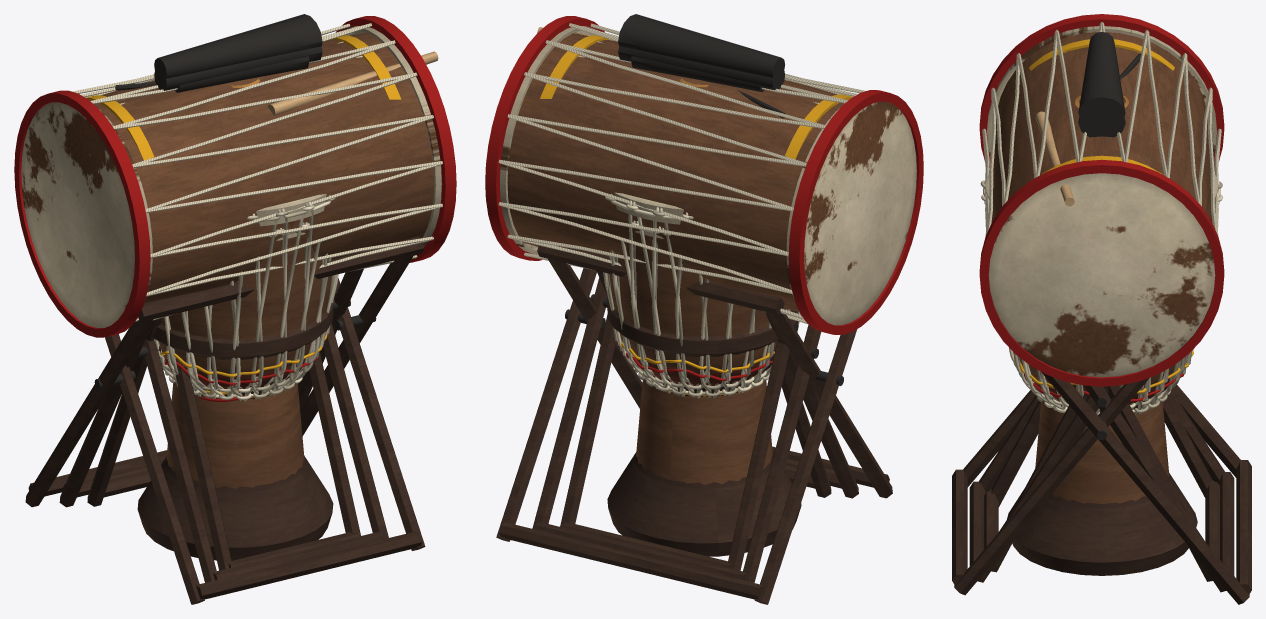
The model's file is EnsembleKit.glb.
3 views of the same model, side by side, from view 1: azimuth 30°, elevation 25°; view 2: azimuth 150°, elevation 25°; view 3: azimuth 270°, elevation 25° (orthographic). The views are drawn at different scales.
Parts seen in each view (by area): view 1: Doundoun_Body, DjembeLead_Body, Doundoun_Head_B, Sangban_Body, Stool, Kenkeni_Body, Doundoun_Bell, Djembe_Body, Doundoun_Head_A, Sangban_Bell, Kenkeni_Bell, Doundoun_Stick (+2 smaller); view 2: Doundoun_Body, DjembeLead_Body, Doundoun_Head_B, Sangban_Body, Stool, Kenkeni_Body, Doundoun_Bell, Djembe_Body, Doundoun_Head_A, Sangban_Bell, Kenkeni_Bell, DjembeLead_Head (+1 smaller); view 3: Doundoun_Body, Doundoun_Head_A, Stool, Sangban_Body, DjembeLead_Body, Kenkeni_Body, Doundoun_Bell, Doundoun_Head_B, Djembe_Body, Sangban_Bell, Doundoun_Stick, Shekere_Stand.
Part boxes in pixels (x1,y1,x2,y2): Doundoun_Body: [14, 16, 456, 604]; DjembeLead_Body: [154, 195, 338, 488]; Doundoun_Head_B: [21, 102, 152, 327]; Sangban_Body: [59, 35, 401, 582]; Stool: [137, 303, 333, 560]; Kenkeni_Body: [87, 318, 360, 570]; Doundoun_Bell: [154, 14, 322, 80]; Djembe_Body: [158, 222, 324, 401]; Doundoun_Head_A: [342, 26, 441, 246]; Sangban_Bell: [154, 46, 322, 90]; Kenkeni_Bell: [174, 56, 309, 92]; Doundoun_Stick: [268, 51, 438, 115]; Doundoun_Body: [485, 16, 923, 604]; DjembeLead_Body: [603, 193, 800, 484]; Doundoun_Head_B: [786, 101, 916, 325]; Sangban_Body: [532, 35, 858, 582]; Stool: [607, 296, 801, 556]; Kenkeni_Body: [560, 310, 831, 570]; Doundoun_Bell: [618, 14, 784, 79]; Djembe_Body: [607, 220, 786, 398]; Doundoun_Head_A: [499, 26, 598, 254]; Sangban_Bell: [618, 46, 784, 90]; Kenkeni_Bell: [631, 56, 764, 91]; DjembeLead_Head: [614, 192, 683, 224]; Doundoun_Body: [952, 14, 1251, 604]; Doundoun_Head_A: [988, 173, 1215, 377]; Stool: [1007, 402, 1197, 575]; Sangban_Body: [969, 39, 1234, 592]; DjembeLead_Body: [980, 170, 1222, 503]; Kenkeni_Body: [984, 385, 1219, 581]; Doundoun_Bell: [1078, 32, 1125, 129]; Doundoun_Head_B: [987, 26, 1216, 155]; Djembe_Body: [1015, 356, 1187, 414]; Sangban_Bell: [1078, 108, 1125, 137]; Doundoun_Stick: [1035, 111, 1074, 206]; Shekere_Stand: [1048, 472, 1171, 508].
Bounding box in the file's own units: 0.6847 × 0.9394 × 0.5322.
15 materials, 8 textured.
